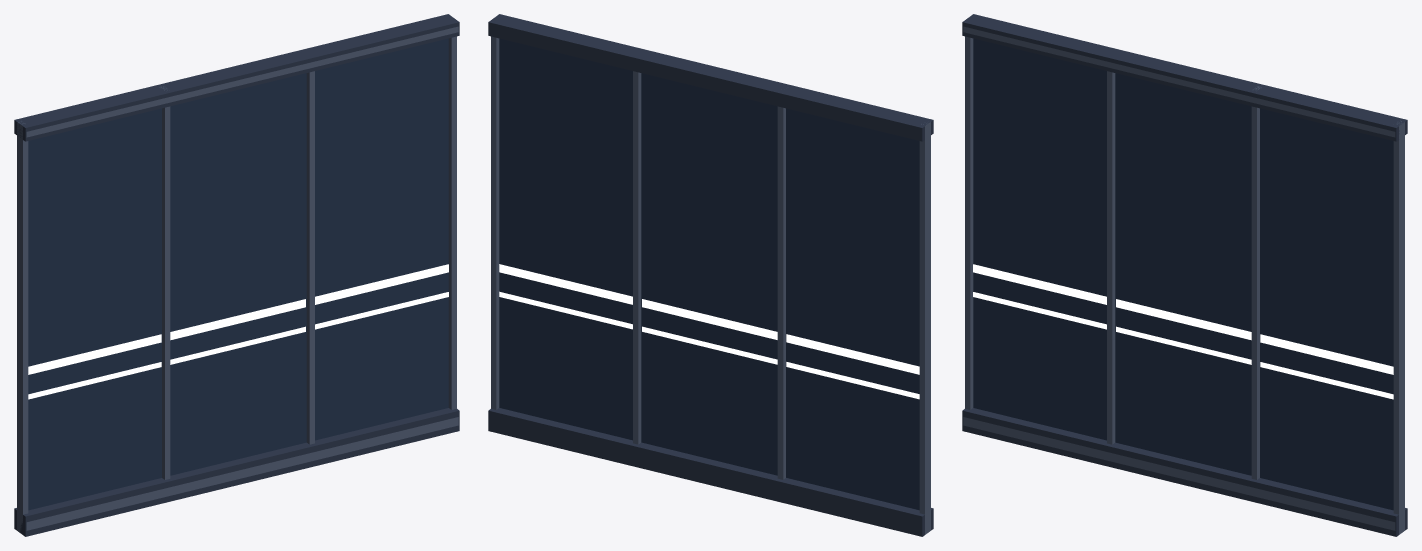
Rendered from off_glass_partition_wall.glb.
3 renders of one model, left to right at view 1: azimuth 30°, elevation 25°; view 2: azimuth 150°, elevation 25°; view 3: azimuth 330°, elevation 25°, orthographic.
Visible parts, largest first — view 1: pane, cap, channel, frit_band; view 2: pane, channel, cap, frit_band; view 3: pane, cap, channel, frit_band.
Part boxes in pixels (x1,y1,x2,y2): pane: (28,38,448,510); cap: (17,26,458,532); channel: (14,14,459,536); frit_band: (28,264,448,399); pane: (499,38,919,510); channel: (488,14,933,536); cap: (491,36,930,534); frit_band: (499,264,919,399); pane: (973,38,1393,510); cap: (963,26,1404,534); channel: (962,14,1407,536); frit_band: (973,264,1393,399).
Size of the model in its own units: 4 by 3.6 by 0.18.
